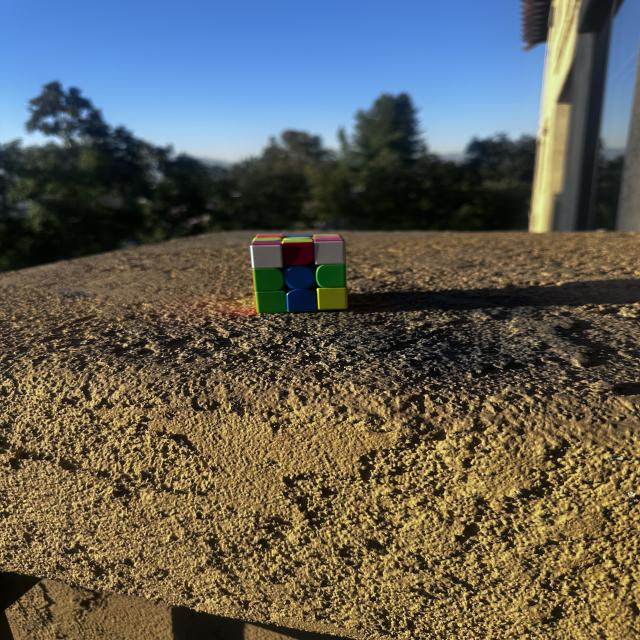sticker: (249, 232, 352, 313), (249, 235, 286, 269), (311, 234, 345, 266), (281, 236, 314, 266), (284, 265, 316, 291), (252, 267, 285, 292), (254, 290, 287, 314), (316, 264, 347, 289), (286, 288, 317, 312), (316, 287, 348, 310), (252, 233, 284, 242)
